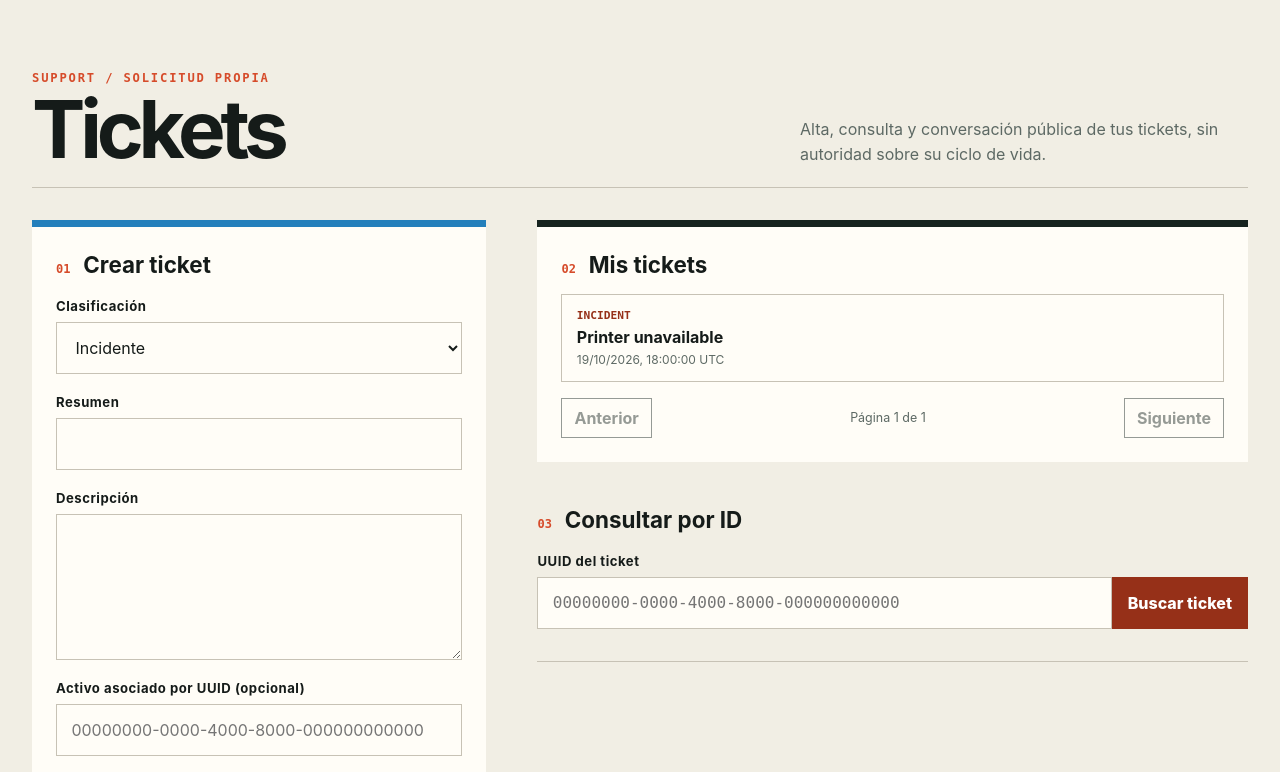
Test: TicketWorkspace › fails closed when the requester conversation contains INTERNAL visibility
Step 1. Click the button "INCIDENT Printer unavailable 19/10/2026, 18:00:00 UTC" → (604,315), box left=562, top=294, right=1224, bottom=382
(page scrolled)
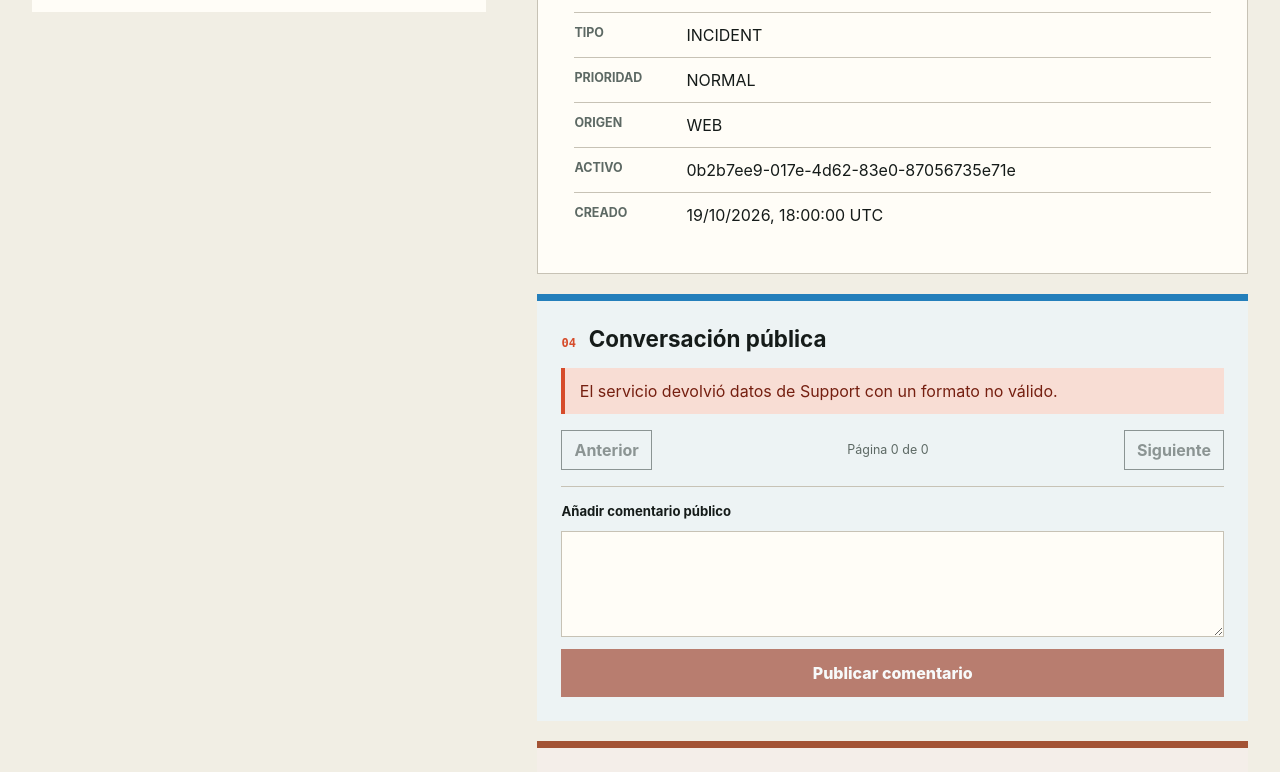
Result: the message shows "formato no válido" at left=580, top=380, right=1058, bottom=400
